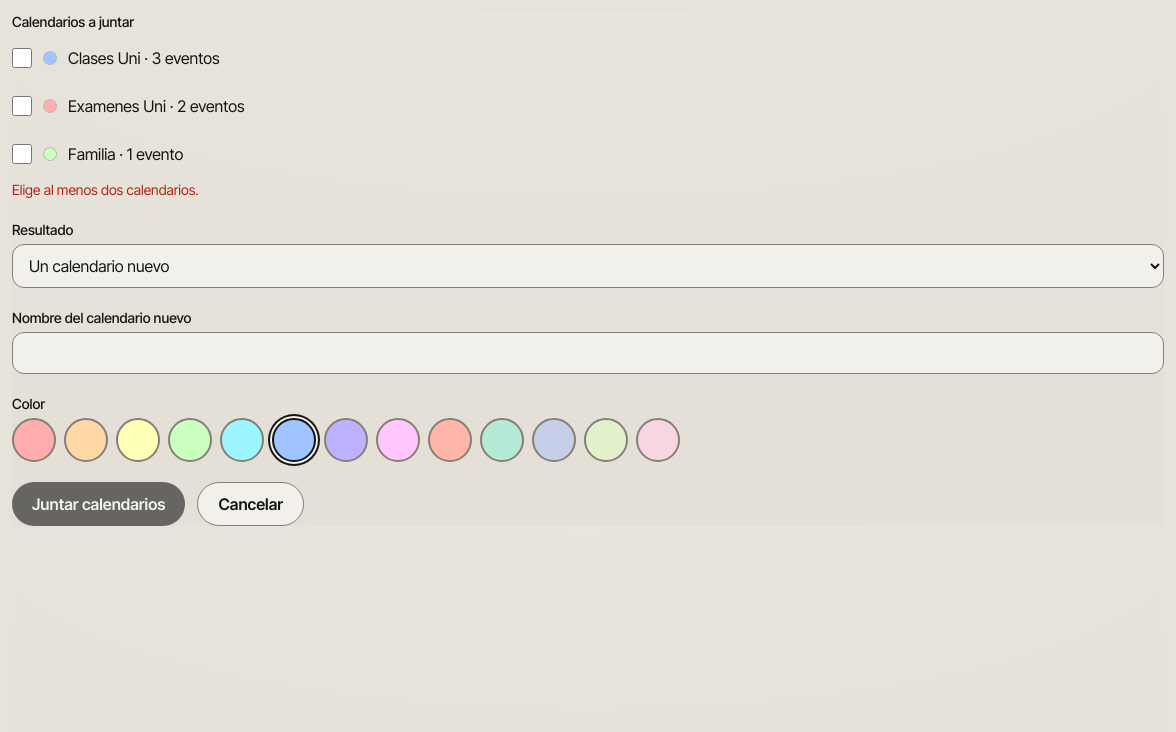
Test case: MergeForm (RF-49..RF-52) › offers the chosen calendars or a new one as the result (RF-50)
The width and height of the screenshot is (1176, 732).
Click the checkbox labelled "Clases Uni · 3 eventos" at point(22, 58), box top-left (12, 48), bottom-right (32, 68)
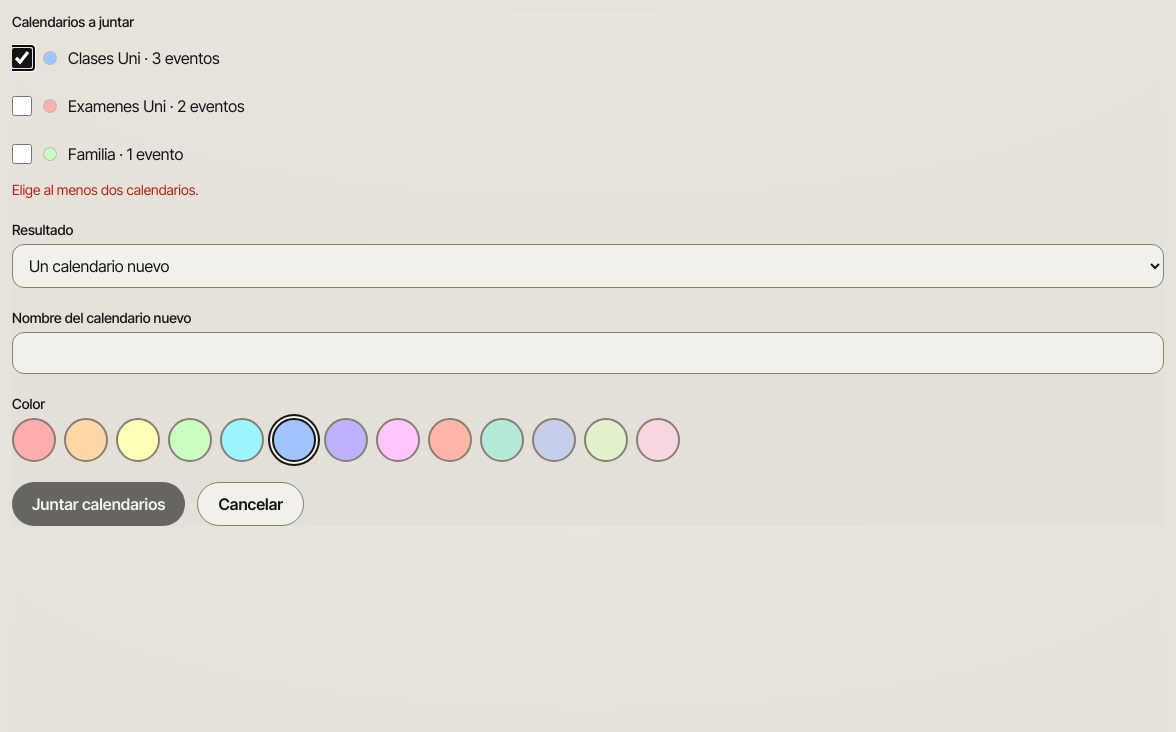
Click the checkbox labelled "Examenes Uni · 2 eventos" at point(22, 106), box top-left (12, 96), bottom-right (32, 116)
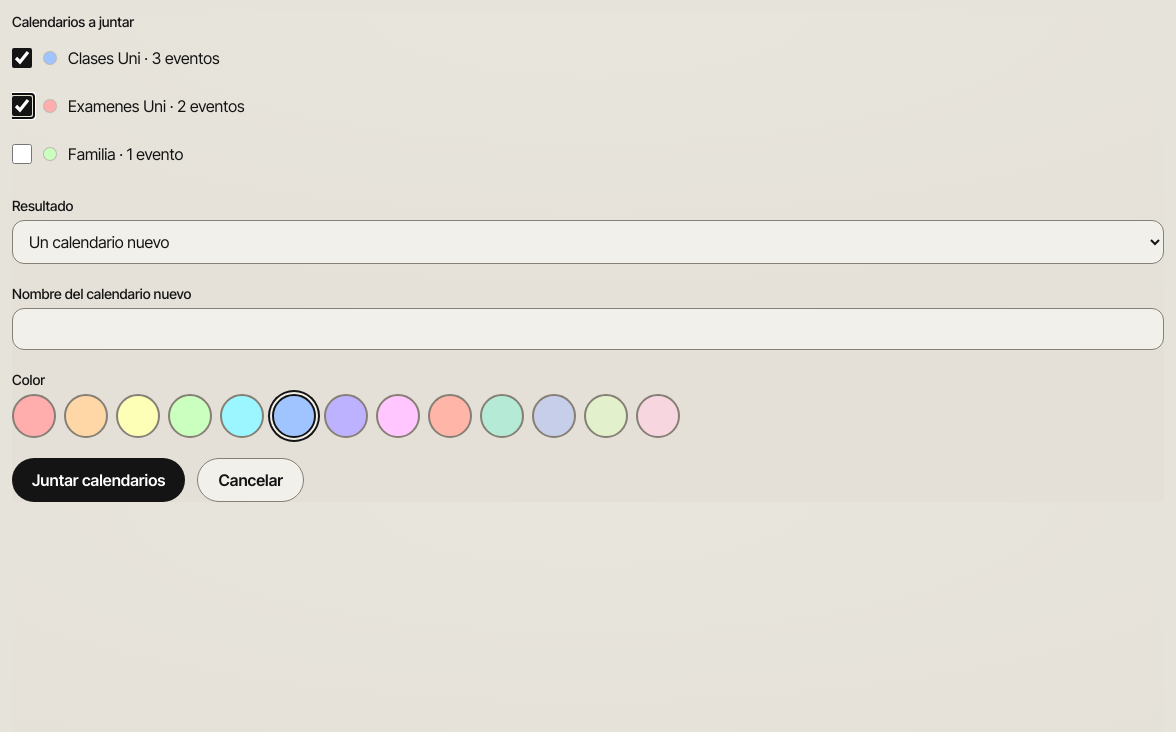
Expected: the field labelled "Nombre del calendario nuevo" is shown, top-left (12, 308), bottom-right (1164, 350)
Expected: the element "Color" is shown, top-left (11, 371), bottom-right (713, 459)
Select "Clases Uni" in the dropdown labelled "Resultado" at point(588, 242), box top-left (12, 220), bottom-right (1164, 264)
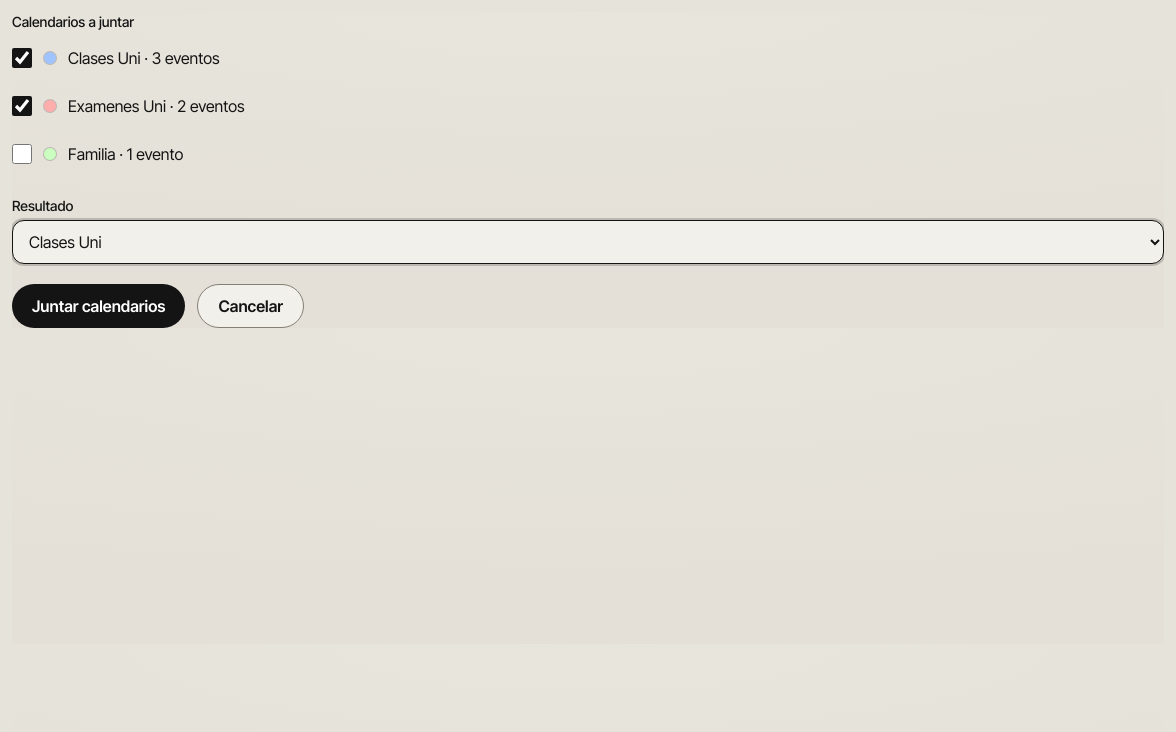
Expected: the label labelled "Nombre del calendario nuevo" is gone
Expected: the text "Color" is gone
